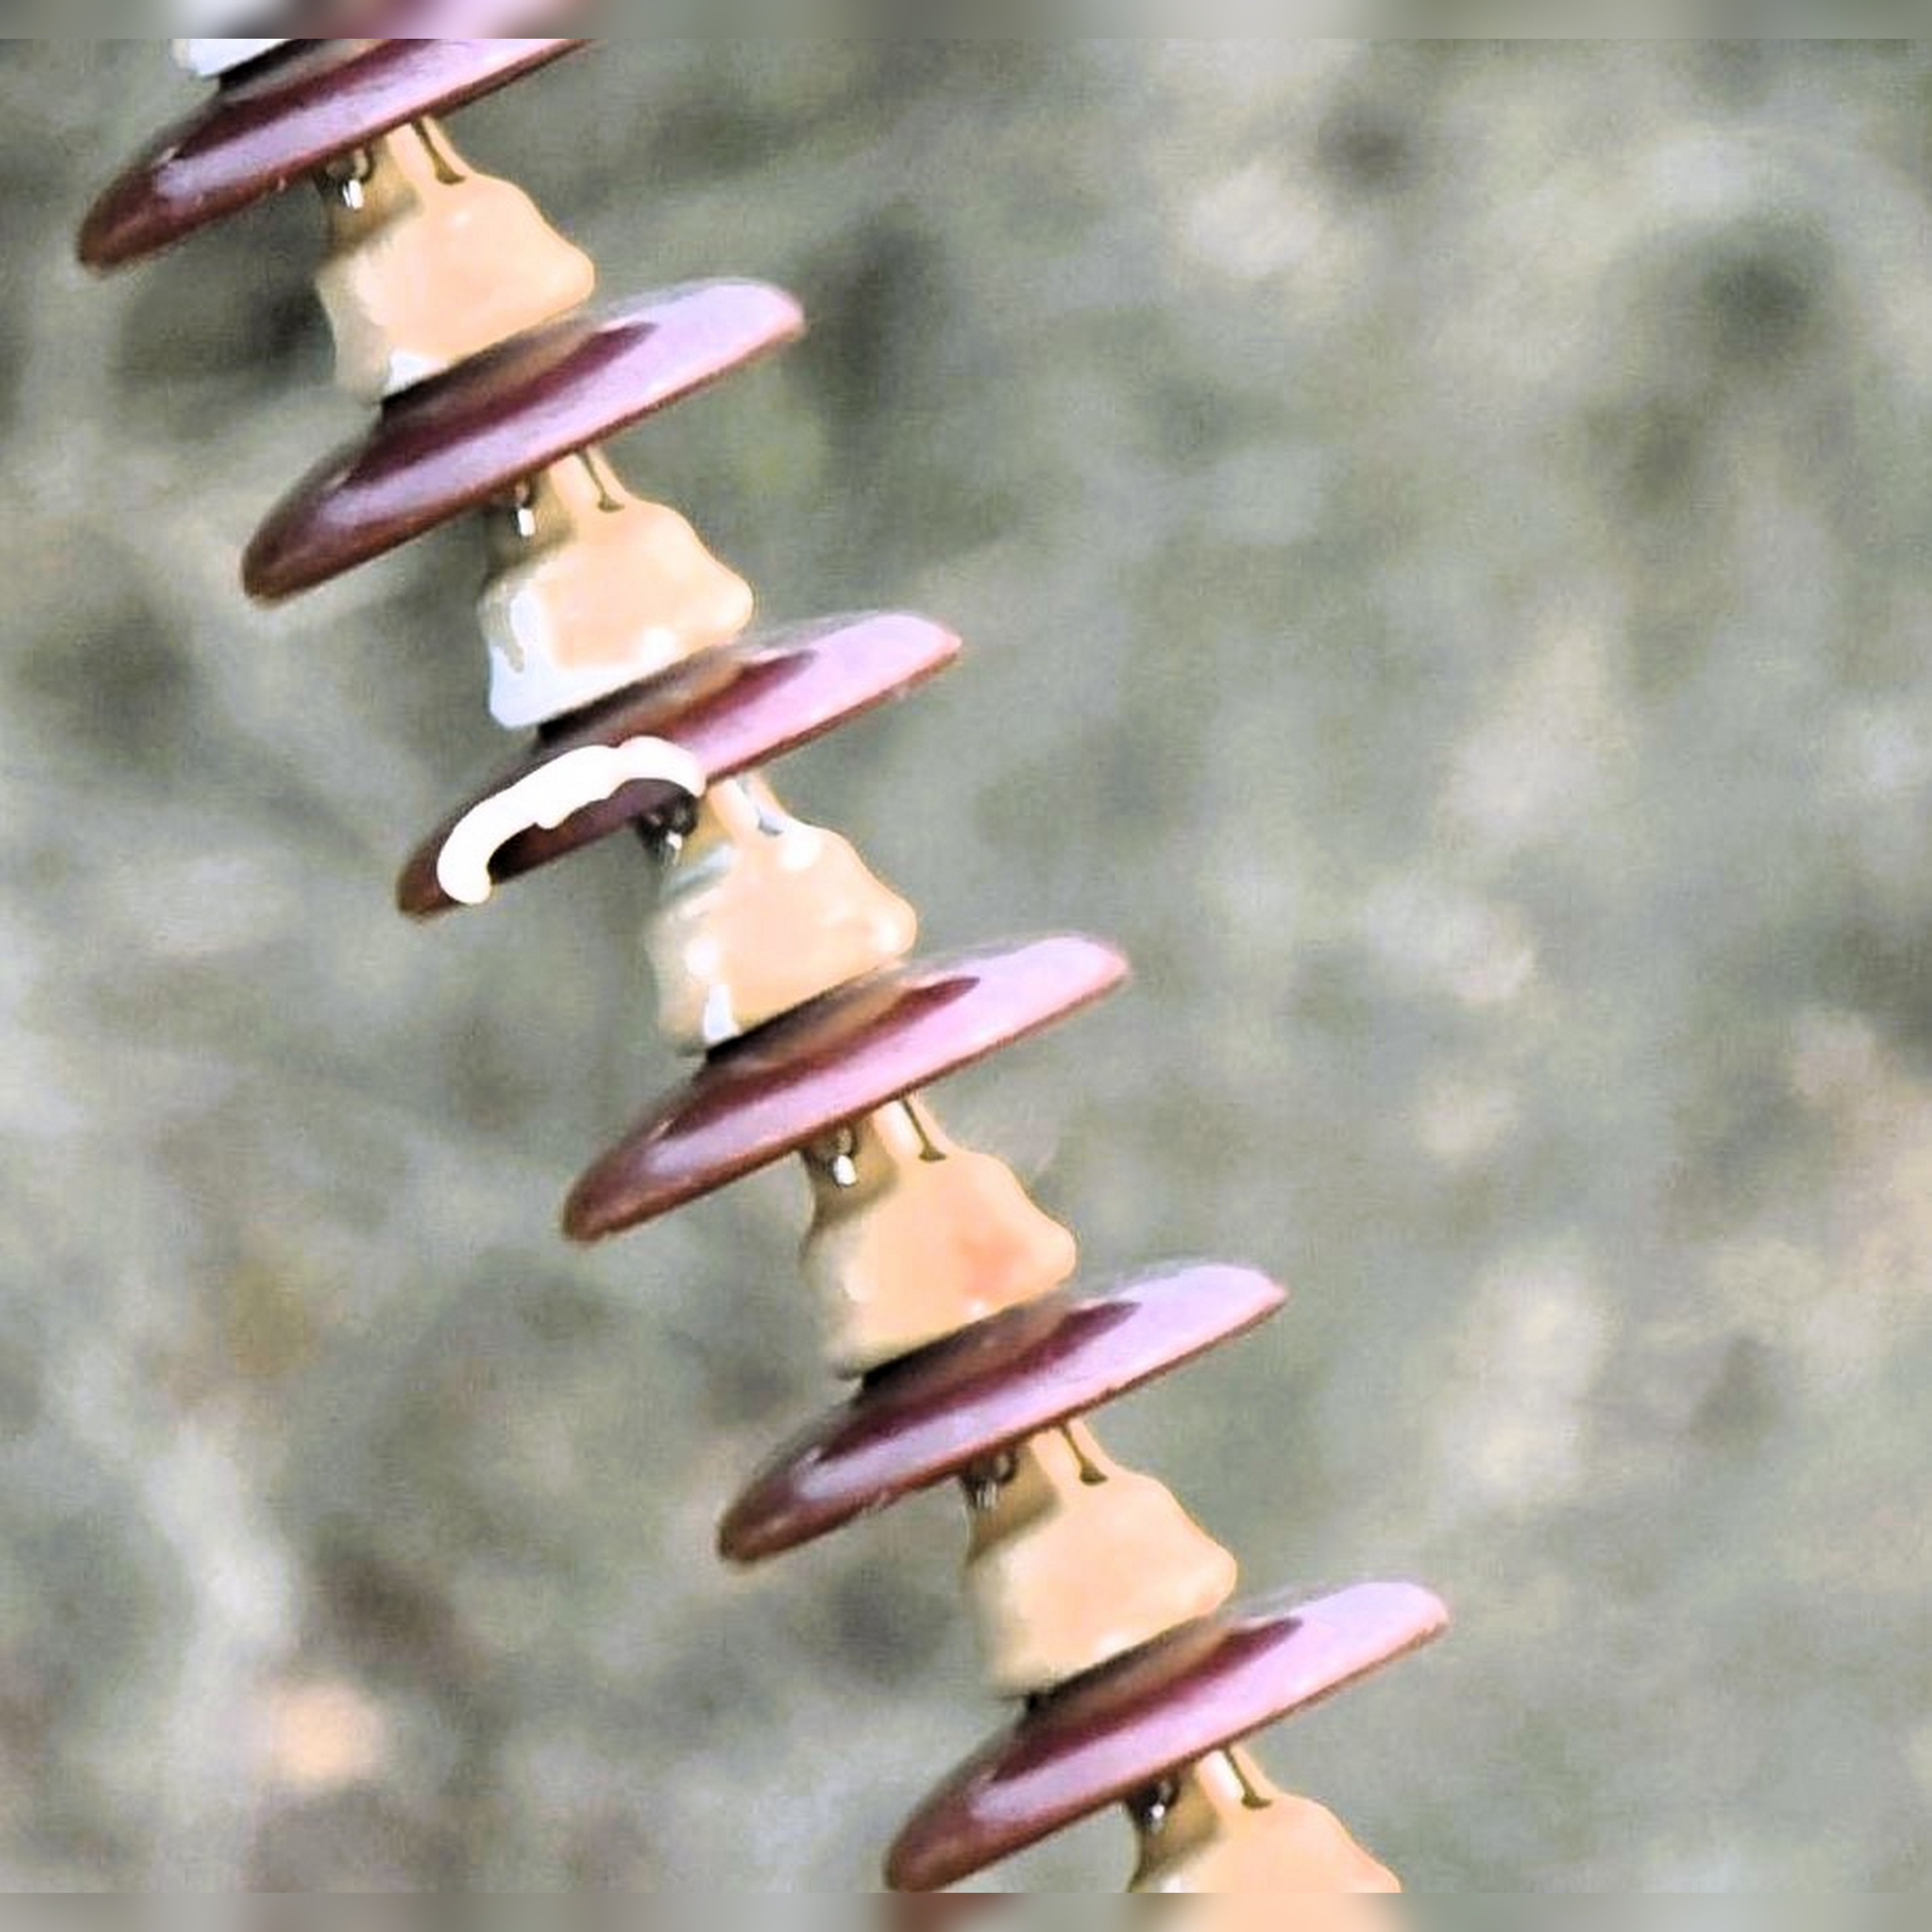insulator breakage: (384, 573, 959, 954)
